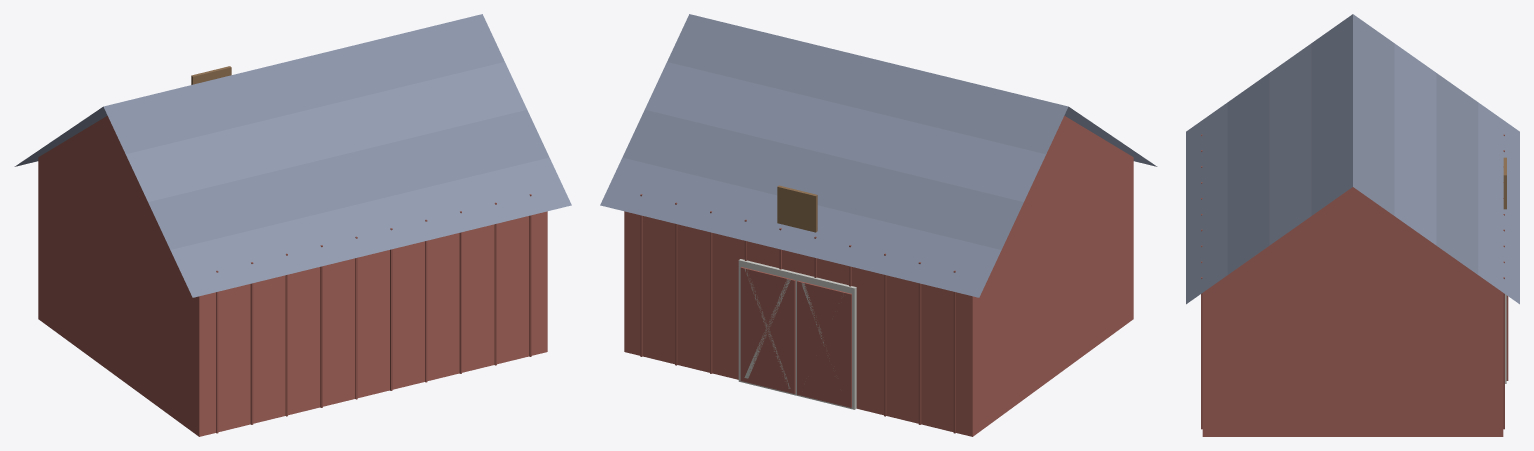
Rendered from barn.glb.
3 views of the same model, side by side, from view 1: azimuth 30°, elevation 25°; view 2: azimuth 150°, elevation 25°; view 3: azimuth 270°, elevation 25° (orthographic). The views are drawn at different scales.
Parts seen in each view (by area): view 1: barn; view 2: barn; view 3: barn.
Part boxes in pixels (x1,y1,x2,y2): barn: [14, 14, 571, 436]; barn: [600, 14, 1157, 436]; barn: [1186, 14, 1519, 436].
Bounding box in the file's own units: 9.8 × 6.8 × 8.
